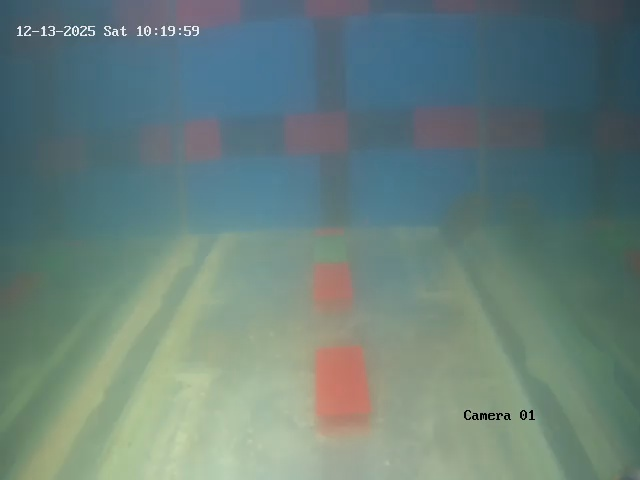fish: (432, 186, 482, 254)
